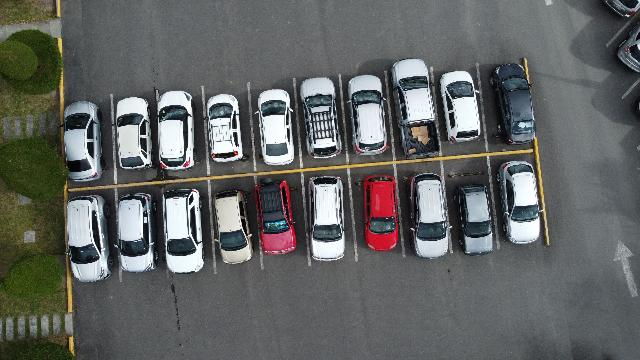Vehiculo: (392, 58, 441, 160), (66, 195, 114, 283), (496, 160, 542, 244), (408, 173, 452, 259), (490, 63, 536, 145), (162, 188, 204, 274), (59, 100, 103, 182), (300, 77, 342, 159), (307, 175, 347, 260), (347, 74, 388, 156), (116, 193, 158, 273), (157, 90, 196, 172), (255, 178, 297, 254), (255, 89, 295, 165), (439, 71, 481, 143), (213, 190, 253, 264), (362, 175, 400, 251), (453, 183, 492, 255), (115, 97, 153, 170), (204, 94, 242, 162), (616, 22, 640, 72), (604, 1, 640, 18)
